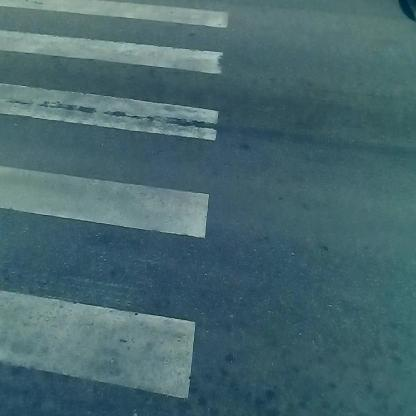crosswalk: (2, 19, 233, 401)
